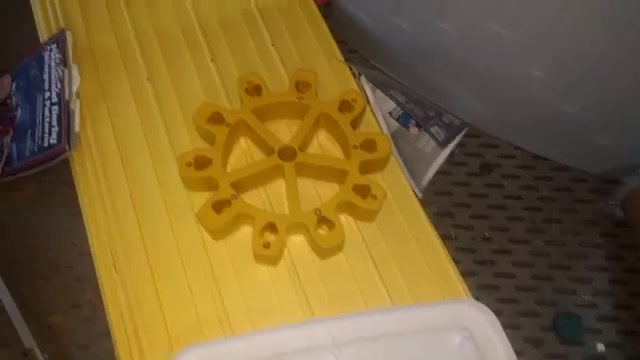gear: (165, 65, 405, 267)
